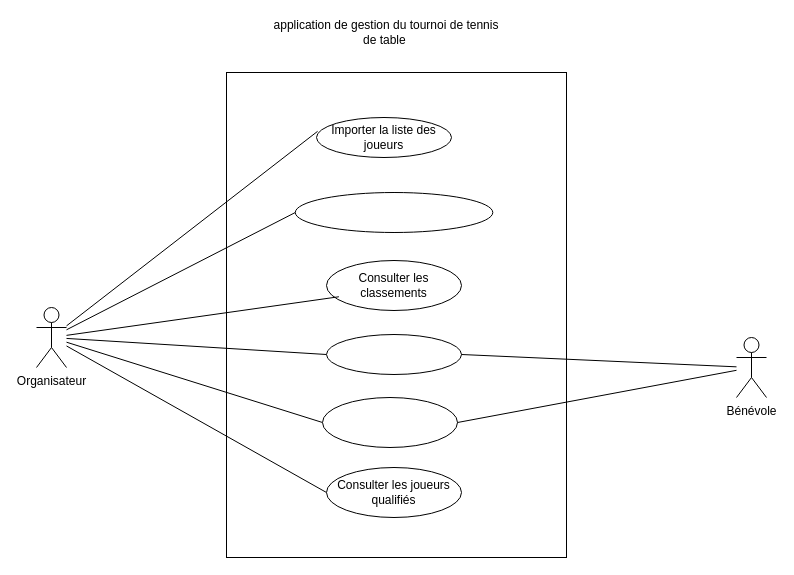
This 794x575 diagram has some shape labels left out. Each missing label, with the box of its shape:
Consulter les résultats des poules: (322, 396, 458, 448)
Générer automatiquement les poules: (294, 192, 493, 232)
Saisir les scores: (326, 334, 462, 374)
